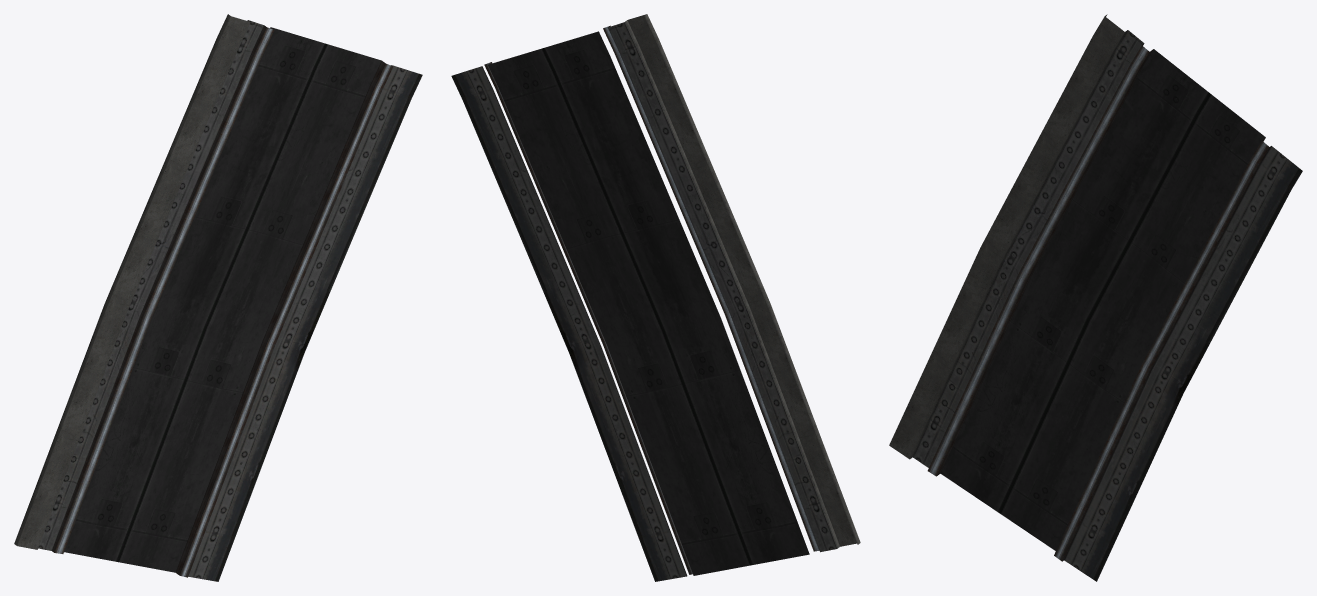
File: p6_express_train_track_a02_LOD1.obj
3 renders of one model, left to right at view 1: azimuth 30°, elevation 25°; view 2: azimuth 150°, elevation 25°; view 3: azimuth 330°, elevation 25°, orthographic.
Visible parts, largest first — view 1: metal_aircraft_catapult_strip, dub_concrete_wall_01_trim_clean, railroadtrack_top, railroadtrack_side; view 2: metal_aircraft_catapult_strip, dub_concrete_wall_01_trim_clean, railroadtrack_top; view 3: metal_aircraft_catapult_strip, dub_concrete_wall_01_trim_clean, railroadtrack_top, railroadtrack_side.
Boxes of the visible parts, bbox=[...] form: metal_aircraft_catapult_strip: bbox=[38, 20, 422, 581]; dub_concrete_wall_01_trim_clean: bbox=[14, 14, 250, 549]; railroadtrack_top: bbox=[54, 27, 393, 577]; railroadtrack_side: bbox=[52, 25, 385, 575]; metal_aircraft_catapult_strip: bbox=[451, 22, 836, 581]; dub_concrete_wall_01_trim_clean: bbox=[624, 14, 860, 548]; railroadtrack_top: bbox=[484, 26, 819, 574]; metal_aircraft_catapult_strip: bbox=[913, 30, 1302, 581]; dub_concrete_wall_01_trim_clean: bbox=[889, 14, 1127, 459]; railroadtrack_top: bbox=[927, 45, 1269, 561]; railroadtrack_side: bbox=[936, 44, 1270, 561].
Size of the model in its own units: 813 by 1076 by 15.4.
